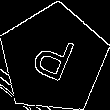P_SW: (27, 29, 80, 90)
